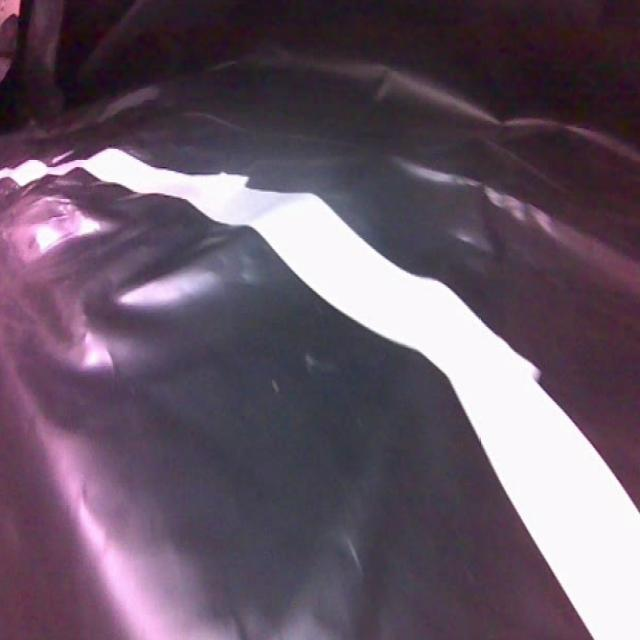LineaCarril: (0, 148, 640, 640)
